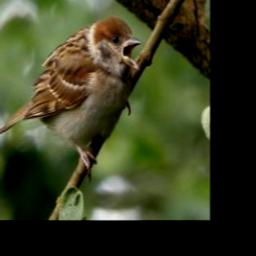Sparrow: (0, 14, 142, 183)
